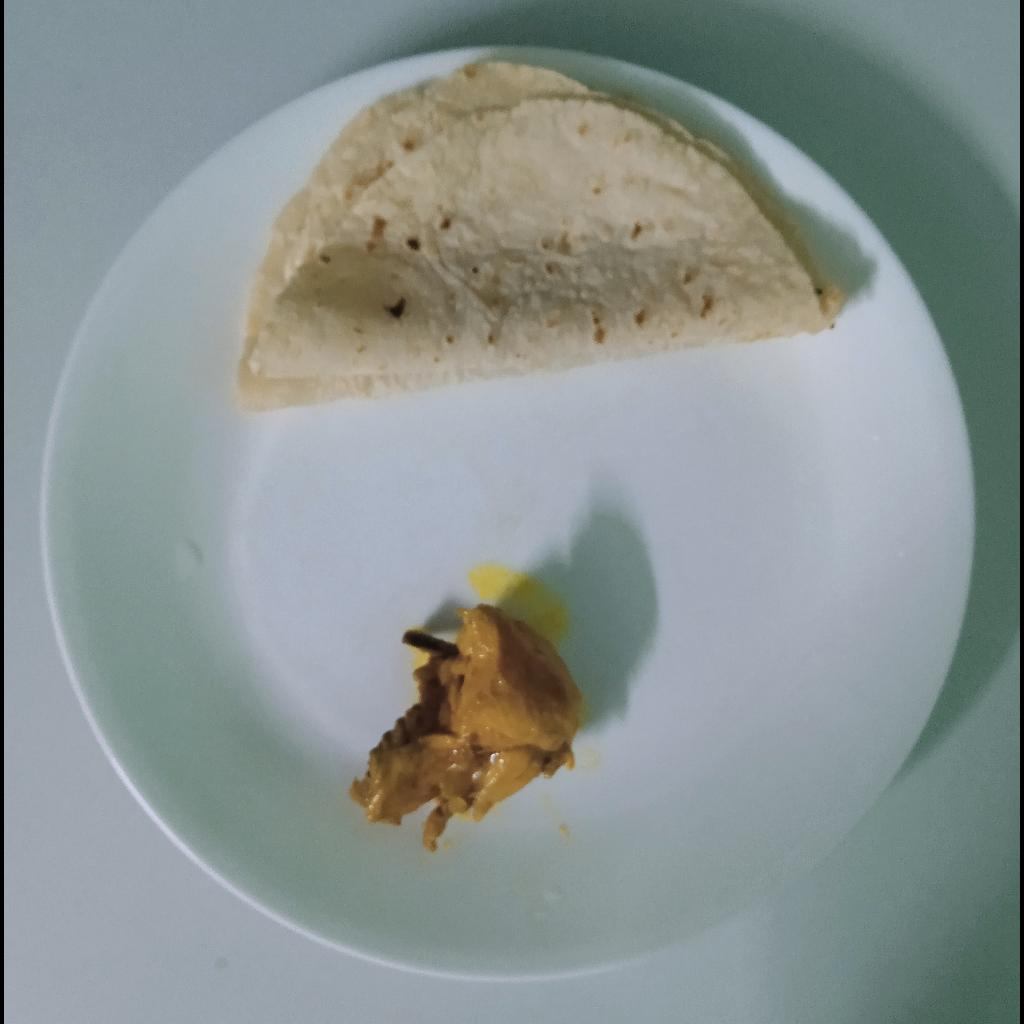chicken: (347, 606, 581, 851)
ruti: (235, 59, 850, 414)
